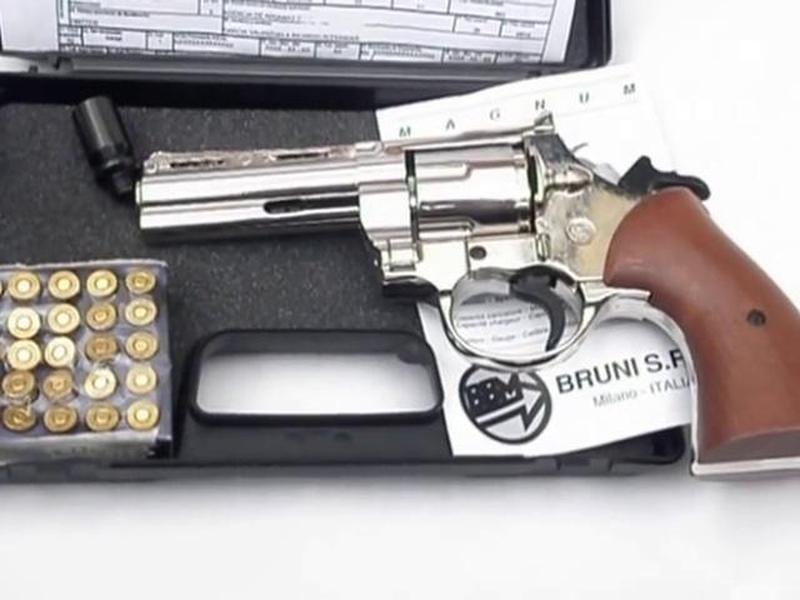Revolver: (137, 107, 800, 401)
